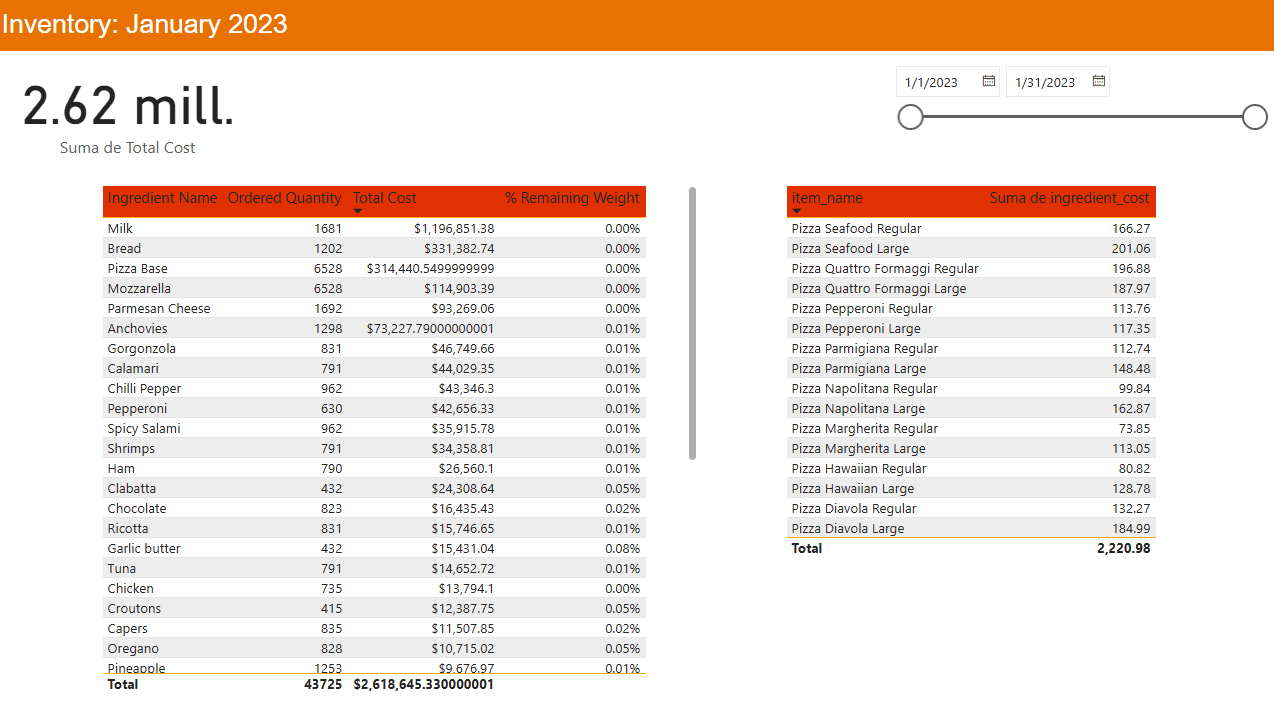

The dashboard page shown, as its layout file describes it:
{"tool":"powerbi","page":{"name":"Inventory","canvas":[1280,720],"ordinal":1},"visuals":[{"type":"card","fields":{"Values":["Sum(Part 4.Total Cost)"]},"box":[0,50.6,260.5,115.2],"z":0},{"type":"tableEx","fields":{"Values":["Part 4.ing_name","Sum(Part 4.order_quantity)","Sum(Part 4.Total Cost)","Part 2.% ing weight"]},"box":[100.1,180.9,605,516.7],"z":0,"group":"g2"},{"type":"actionButton","box":[0,0,100,40],"z":1000},{"type":"tableEx","fields":{"Values":["Part 4.item_name","Sum(Part 4.ingredient_cost)"]},"box":[783.7,180.9,385.4,516.7],"z":2000},{"type":"group","id":"g1","title":"Grupo 1","box":[100.1,180.9,605,516.7],"z":3000},{"type":"group","id":"g2","title":"Grupo 2","box":[100.1,180.9,605,516.7],"z":3001,"group":"g1"},{"type":"textbox","box":[0,0,605,66.7],"z":4000},{"type":"textbox","box":[0,0,1280,50.6],"z":5000},{"type":"slicer","fields":{"Values":["Part 3.date"]},"box":[886,56,394,104],"z":6000}]}

Visuals, with their boxes in screenshot pixels (x1, y1, x2, y2), scaled from the page's 1280x720 canvas onto the 1274x718 screenshot:
card - Sum(Part 4.Total Cost): <box>0,50,259,165</box>
tableEx - Part 4.ing_name x Sum(Part 4.order_quantity): <box>100,180,702,696</box>
actionButton: <box>0,0,100,40</box>
tableEx - Part 4.item_name x Sum(Part 4.ingredient_cost): <box>780,180,1164,696</box>
"Grupo 1" group: <box>100,180,702,696</box>
"Grupo 2" group: <box>100,180,702,696</box>
textbox: <box>0,0,602,67</box>
textbox: <box>0,0,1273,50</box>
slicer - Part 3.date: <box>882,56,1273,160</box>
